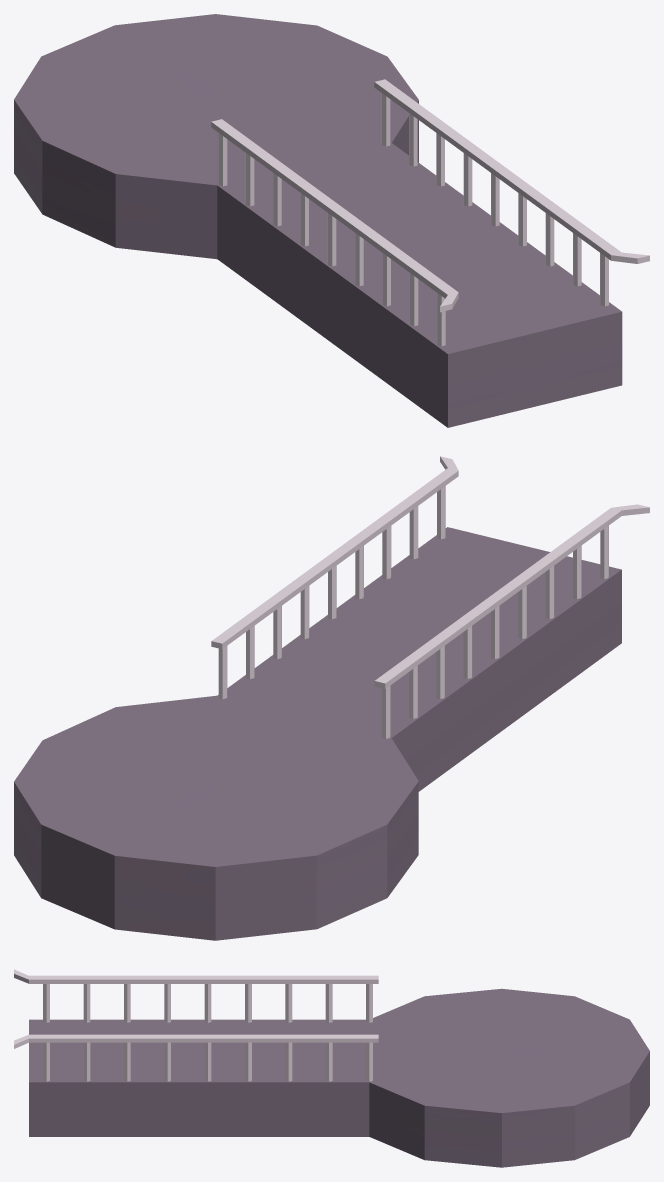
The model's file is lvl1_end.glb.
The picture shows the model from 3 angles, top to bottom: view 1: azimuth 30°, elevation 25°; view 2: azimuth 150°, elevation 25°; view 3: azimuth 270°, elevation 25°; orthographic projection. The views are drawn at different scales.
Parts seen in each view (by area): view 1: lvl0_starting_platform.001; view 2: lvl0_starting_platform.001; view 3: lvl0_starting_platform.001.
Part boxes in pixels (x1,y1,x2,y2): lvl0_starting_platform.001: (14,14,649,427); lvl0_starting_platform.001: (14,456,649,940); lvl0_starting_platform.001: (14,969,649,1167).
Bounding box in the file's own units: 6.4 × 2.36 × 13.83.
1 material, 1 textured.
